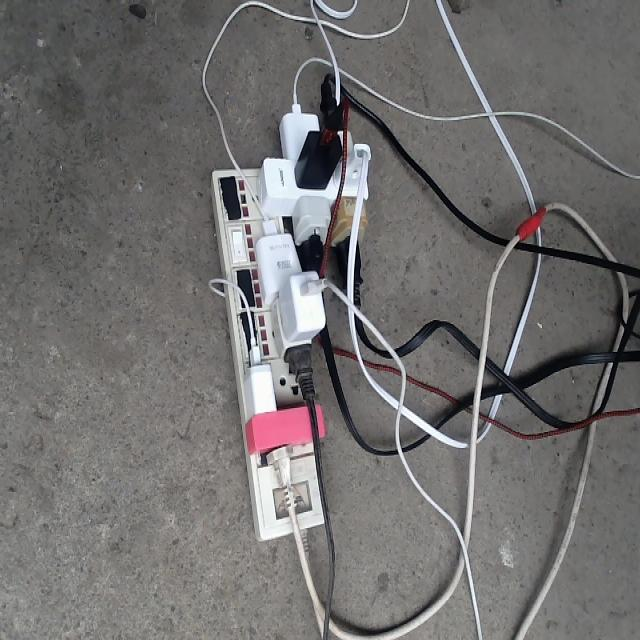-: (211, 77, 370, 540)
